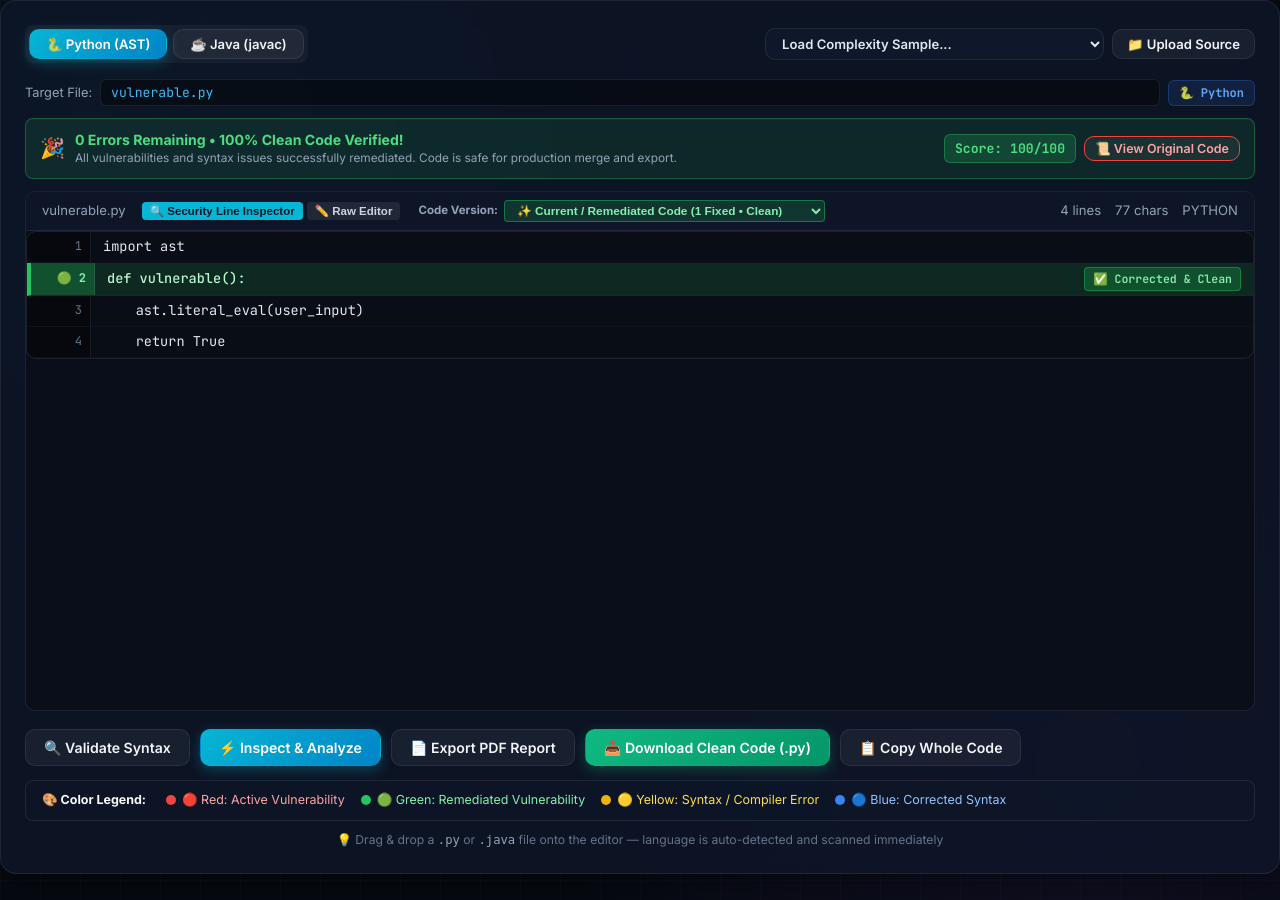
AI Code Review, Remediation & Conversational Assistant Suite › allows user to switch between remediated code and original uploaded code with initial error highlights via dropdown
Expected: the text "0 Errors Remaining • 100% Clean Code Verified!" is shown, [75,131,404,148]
Expected: the text "ast.literal_eval(user_input)" is shown, [103,301,364,319]
Switch to Original Uploaded Code
Select "📜 Original Uploaded Code (1 Initial Errors in Red)" in the dropdown named "Code Version Selector" at (664, 211), box [504,200,825,222]
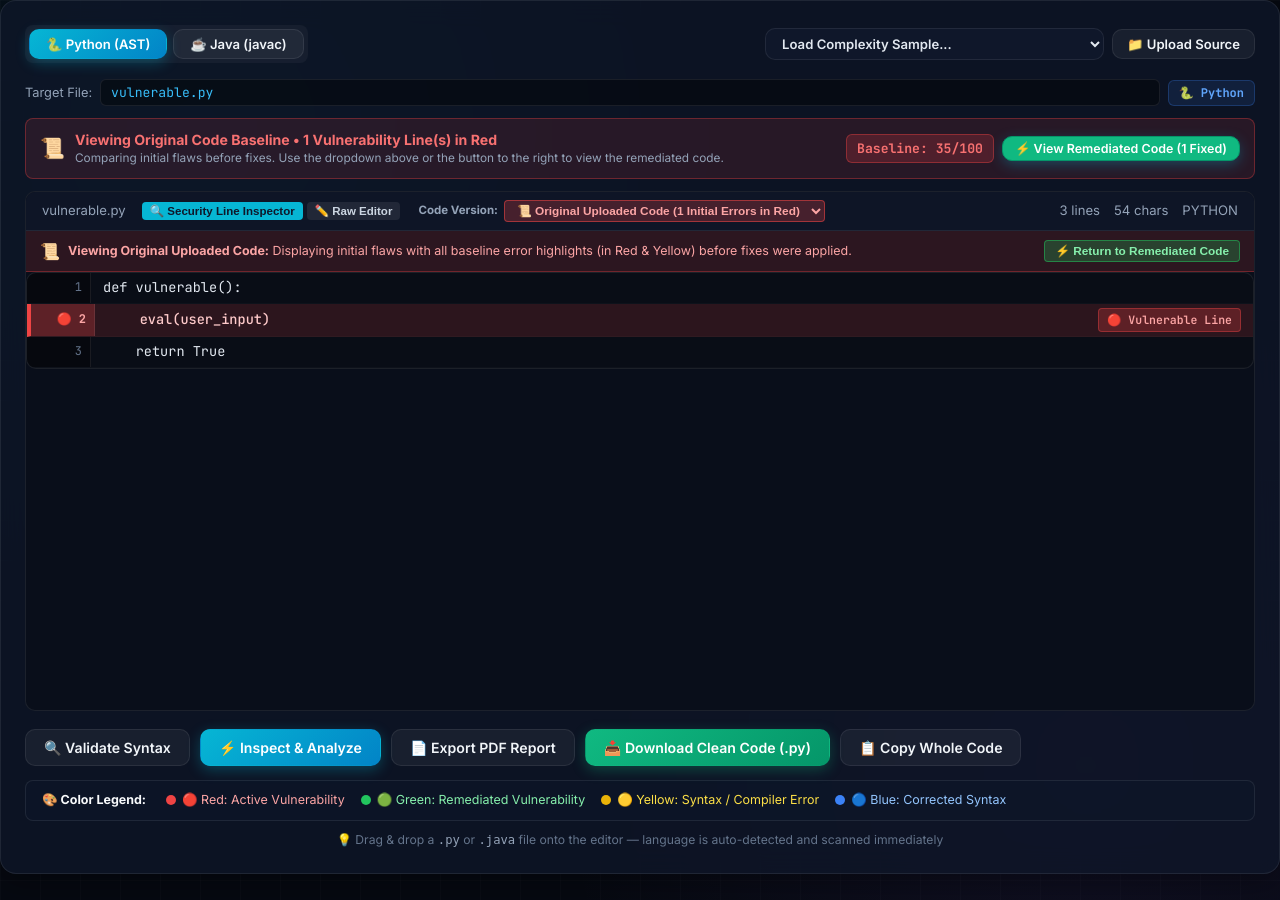
Expected: the text "Viewing Original Code Baseline" is shown, [75,131,303,148]
Expected: the text "eval(user_input)" is shown, [107,310,270,328]
Expected: the text "🔴 Vulnerable Line" is shown, [1098,308,1241,332]
Switch back to Remediated Code via button or dropdown
Click the button "⚡ View Remediated Code (1 Fixed)".
click(1121, 148)  # box [1002,136,1240,161]
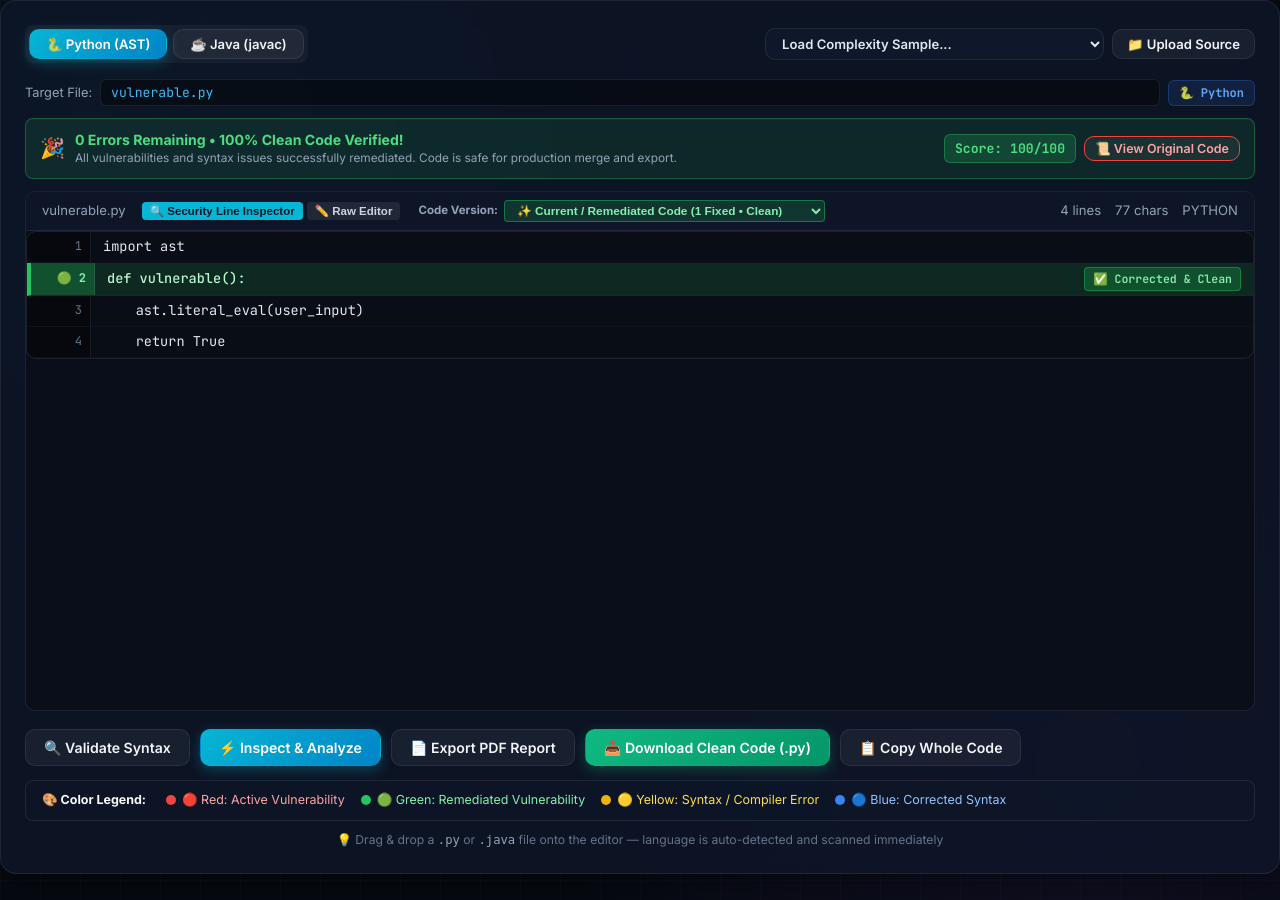
Expected: the text "0 Errors Remaining • 100% Clean Code Verified!" is shown, [75,131,404,148]
Expected: the text "ast.literal_eval(user_input)" is shown, [103,301,364,319]
